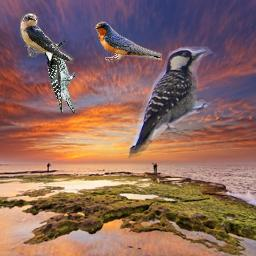Swallow: (20, 11, 75, 64), (93, 21, 162, 63)
Woodpecker: (122, 43, 214, 162), (44, 40, 75, 115)
